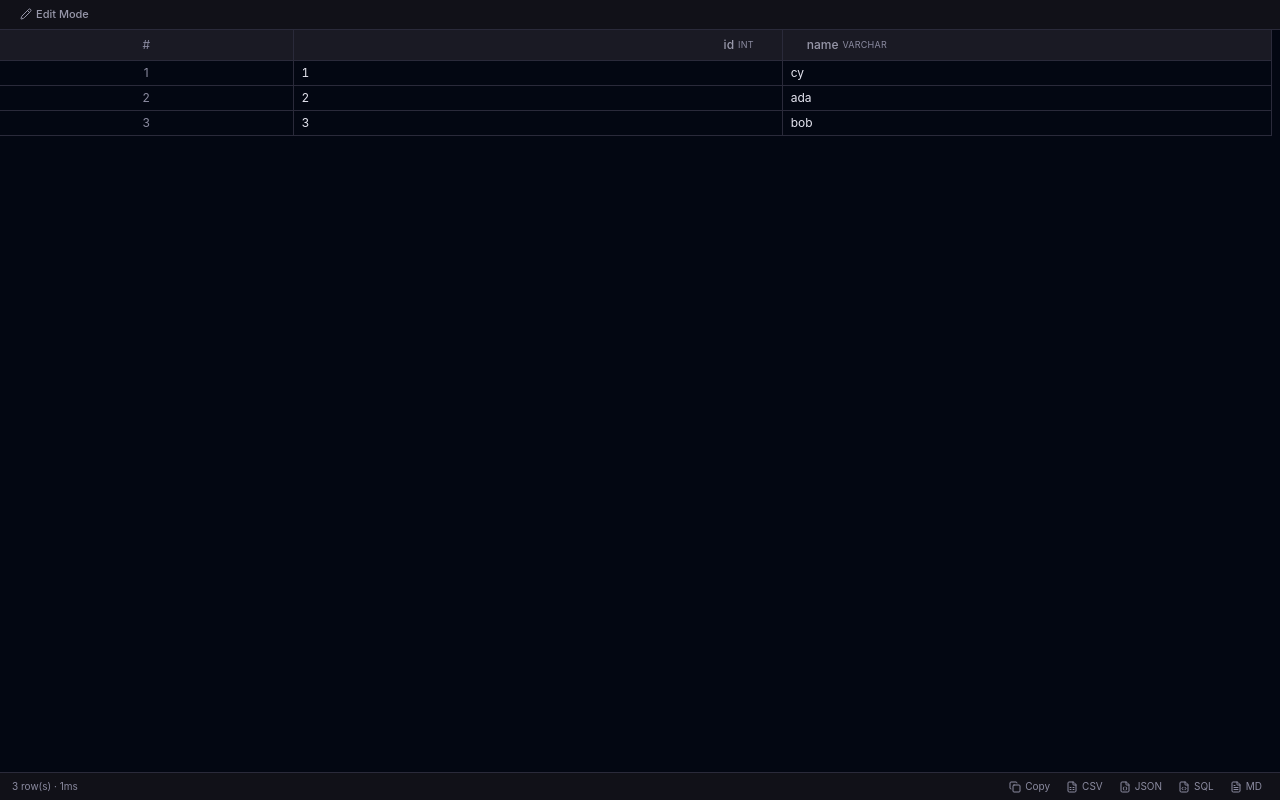
Test: cells keep their DOM node across a row click (#841) › opens the editor on a double-click in edit mode
Click the button "Edit Mode": (54, 14) x1=12 y1=4 x2=97 y2=24
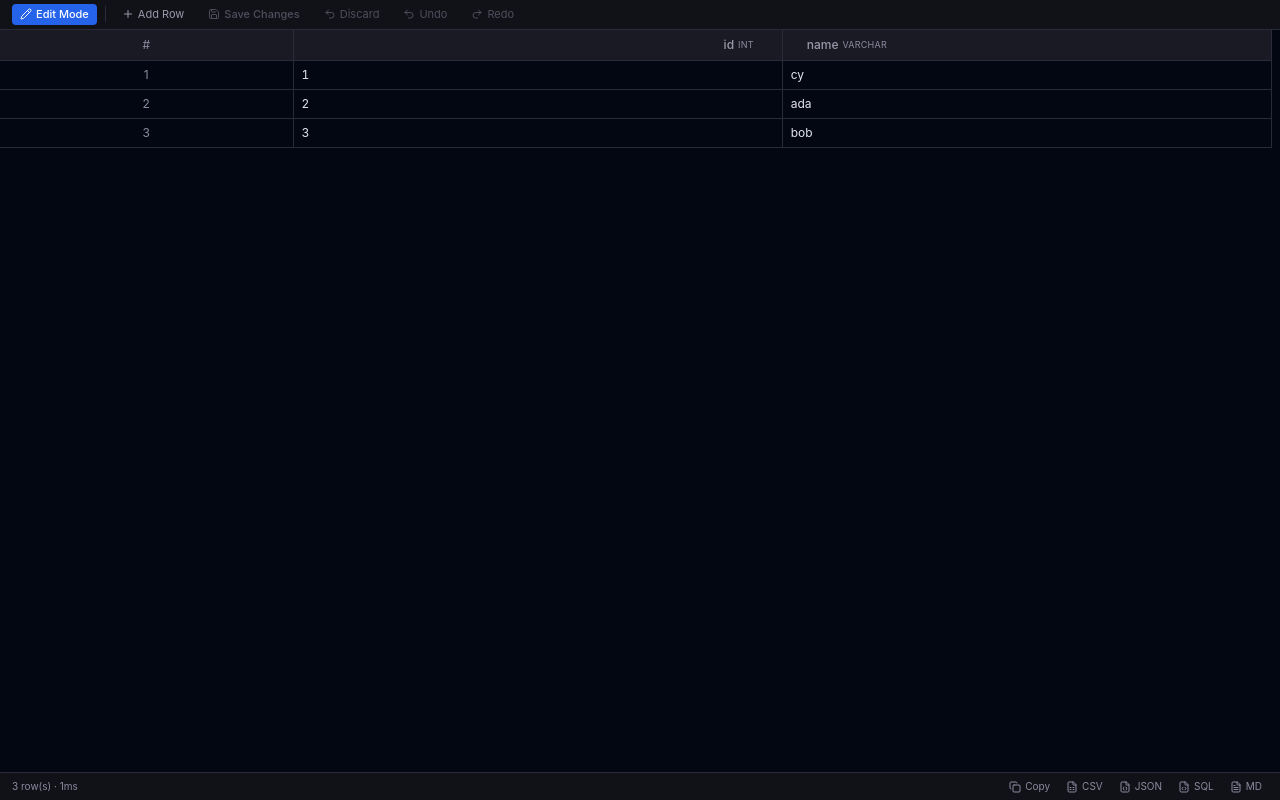
Click the text "ada": (801, 104) x1=791 y1=96 x2=812 y2=112
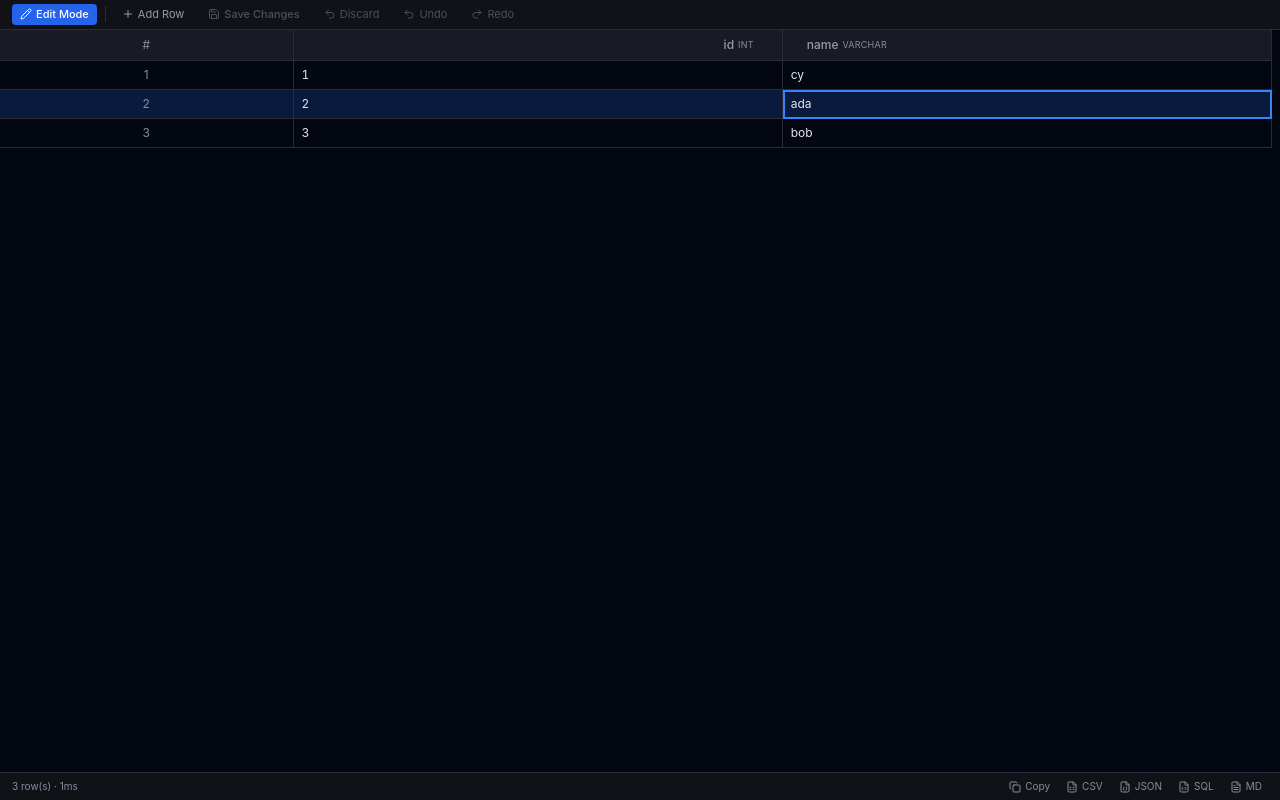
Double-click the text "ada": (801, 104) x1=791 y1=96 x2=812 y2=112
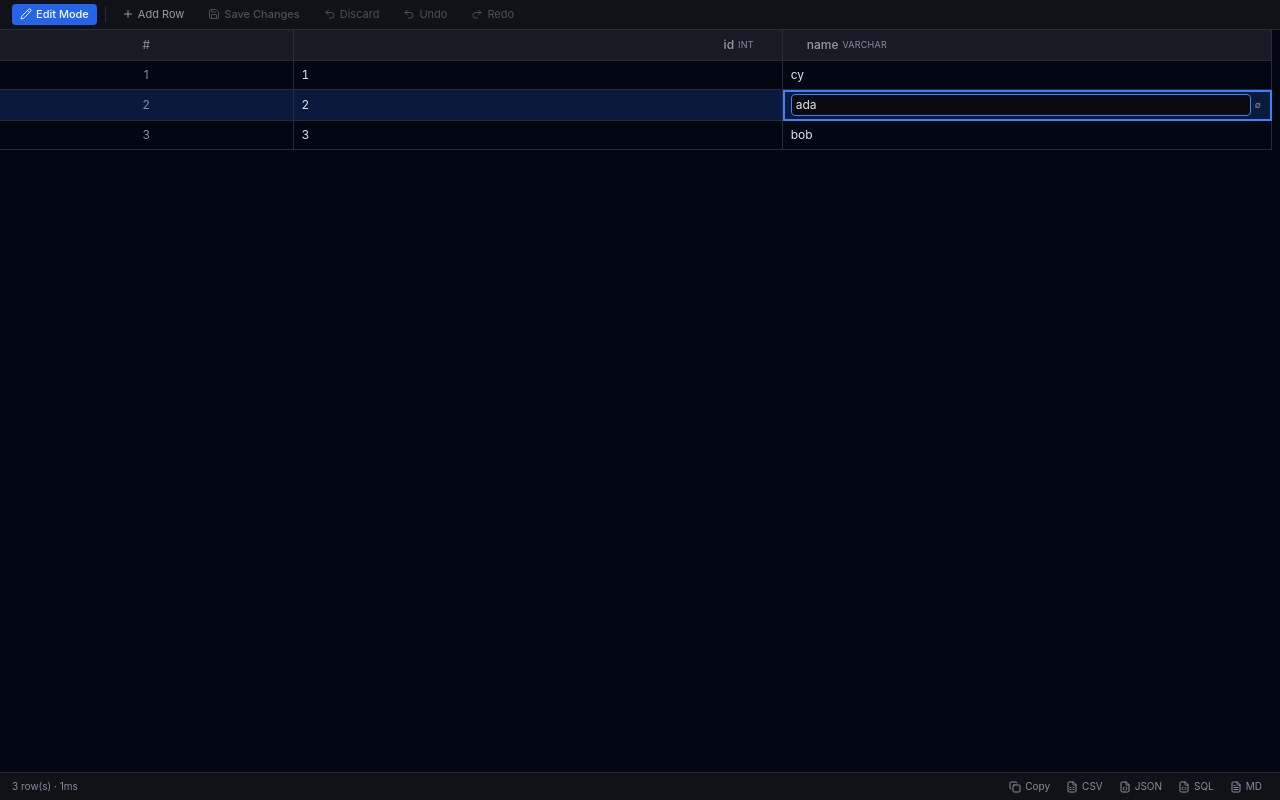
Now the field showing "ada" is shown, box x1=791 y1=94 x2=1251 y2=116
